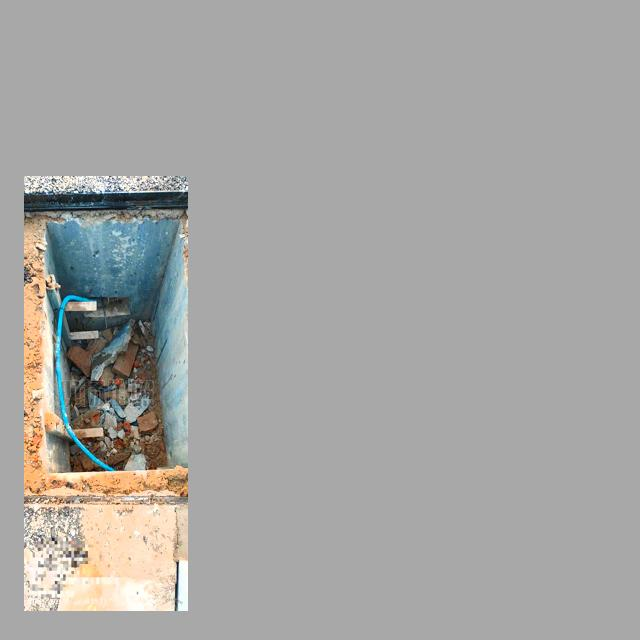lose: (27, 197, 188, 514)
